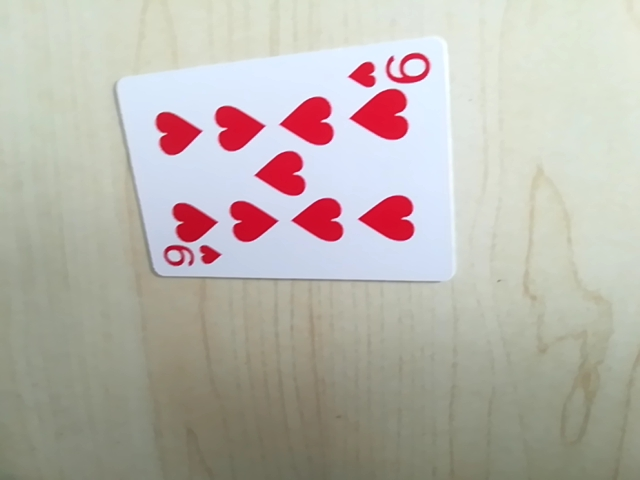hx 9: (349, 46, 434, 93), (158, 241, 219, 274)
